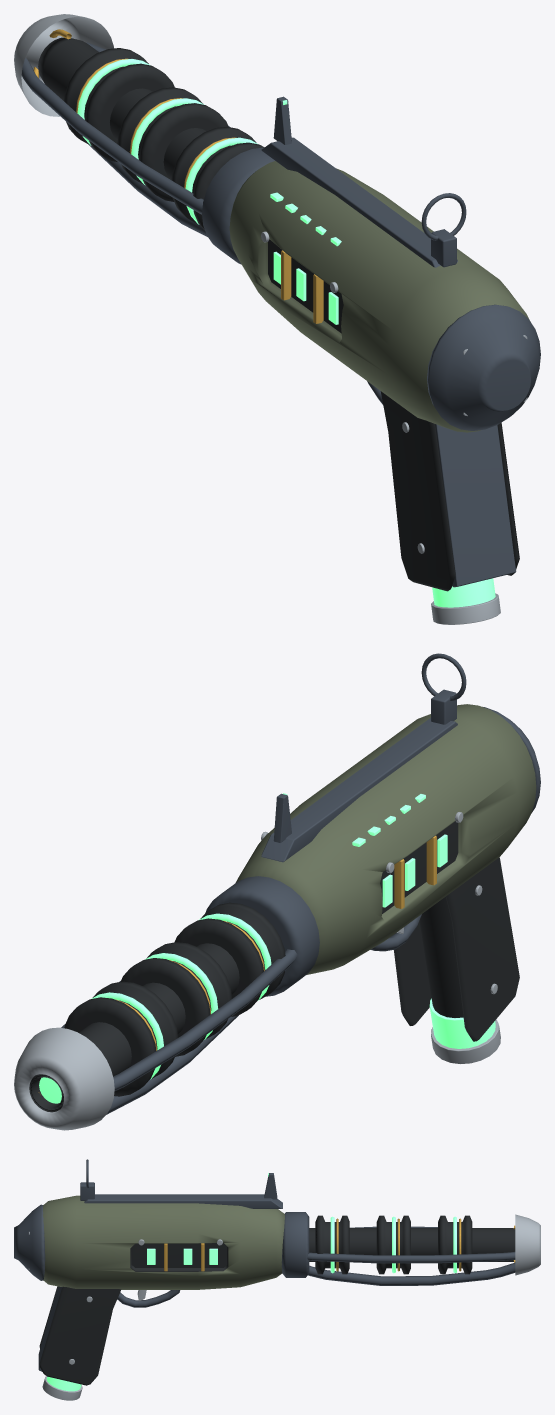
Rendered from vm_zapper.glb.
The picture shows the model from 3 angles, top to bottom: view 1: azimuth 30°, elevation 25°; view 2: azimuth 150°, elevation 25°; view 3: azimuth 270°, elevation 25°; orthographic projection. The views are drawn at different scales.
Parts seen in each view (by area): view 1: vm_zapper geometry, grip_frame geometry, energy_body geometry, Cell charge band, mag geometry, Induction phase conductor 1, Induction phase conductor 2, Induction phase conductor 0; view 2: vm_zapper geometry, grip_frame geometry, mag geometry, energy_body geometry, Cell charge band, Induction phase conductor 0, Induction phase conductor 1, Induction phase conductor 2; view 3: vm_zapper geometry, grip_frame geometry, energy_body geometry, mag geometry, Cell charge band.
Boxes of the visible parts, bbox=[...] form: vm_zapper geometry: bbox=[14, 14, 540, 432]; grip_frame geometry: bbox=[380, 391, 519, 591]; energy_body geometry: bbox=[270, 100, 341, 324]; Cell charge band: bbox=[432, 578, 495, 607]; mag geometry: bbox=[431, 593, 500, 624]; Induction phase conductor 1: bbox=[131, 98, 204, 185]; Induction phase conductor 2: bbox=[185, 137, 257, 224]; Induction phase conductor 0: bbox=[77, 59, 150, 145]; vm_zapper geometry: bbox=[14, 653, 540, 1130]; grip_frame geometry: bbox=[394, 857, 519, 1041]; mag geometry: bbox=[419, 897, 500, 1064]; energy_body geometry: bbox=[39, 793, 447, 1103]; Cell charge band: bbox=[429, 998, 495, 1048]; Induction phase conductor 0: bbox=[91, 992, 163, 1079]; Induction phase conductor 1: bbox=[145, 953, 218, 1039]; Induction phase conductor 2: bbox=[199, 913, 271, 1000]; vm_zapper geometry: bbox=[14, 1159, 540, 1307]; grip_frame geometry: bbox=[38, 1286, 121, 1385]; energy_body geometry: bbox=[147, 1173, 268, 1264]; mag geometry: bbox=[42, 1376, 82, 1400]; Cell charge band: bbox=[46, 1376, 81, 1391].
Bounding box in the file's own units: 0.07 × 0.2118 × 0.43.
